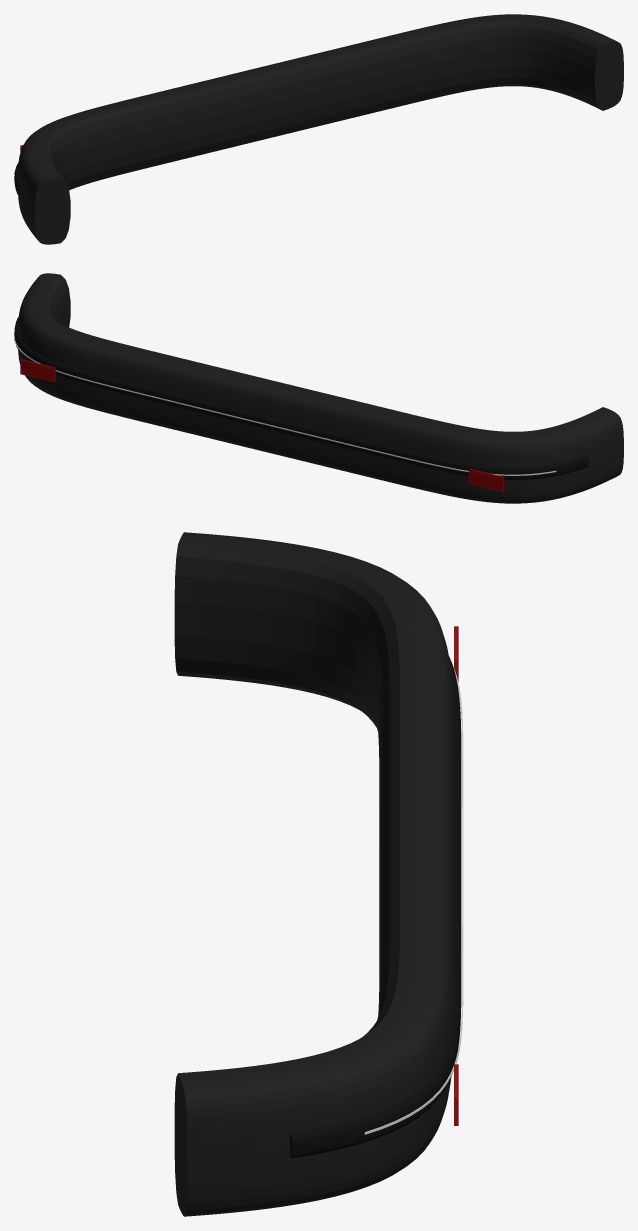
File: para_choque_traseiro_hatch.glb
3 renders of one model, top to bottom at view 1: azimuth 30°, elevation 25°; view 2: azimuth 150°, elevation 25°; view 3: azimuth 270°, elevation 25°, orthographic. The views are drawn at different scales.
Parts seen in each view (by area): view 1: para_choque_traseiro_hatch_plastico_preto; view 2: para_choque_traseiro_hatch_plastico_preto, para_choque_traseiro_hatch_borracha, para_choque_traseiro_hatch_lente_lanterna, para_choque_traseiro_hatch_cromado; view 3: para_choque_traseiro_hatch_plastico_preto, para_choque_traseiro_hatch_borracha, para_choque_traseiro_hatch_cromado.
Boxes of the visible parts, <box> form: para_choque_traseiro_hatch_plastico_preto: <box>18,14,623,244</box>; para_choque_traseiro_hatch_plastico_preto: <box>18,273,623,503</box>; para_choque_traseiro_hatch_borracha: <box>14,317,589,479</box>; para_choque_traseiro_hatch_lente_lanterna: <box>20,359,504,491</box>; para_choque_traseiro_hatch_cromado: <box>14,338,556,475</box>; para_choque_traseiro_hatch_plastico_preto: <box>174,532,454,1216</box>; para_choque_traseiro_hatch_borracha: <box>290,656,461,1158</box>; para_choque_traseiro_hatch_cromado: <box>364,666,463,1134</box>.
Size of the model in its own units: 1.73 by 0.185 by 0.3679.
